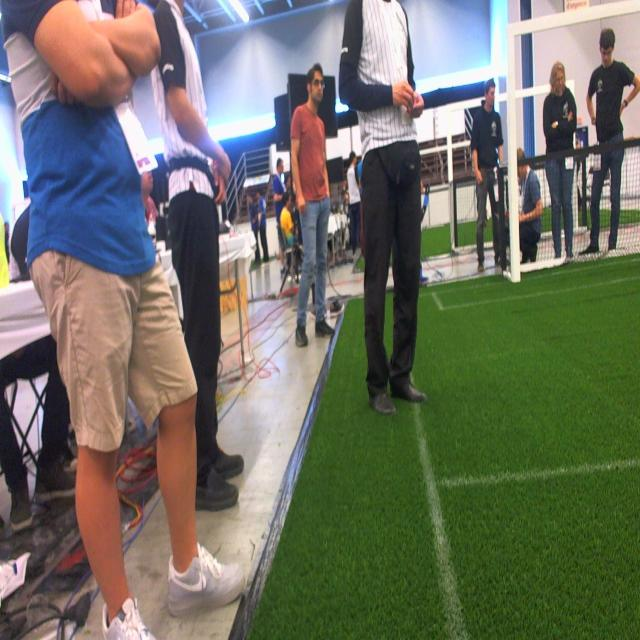goalpost: (506, 18, 521, 282)
